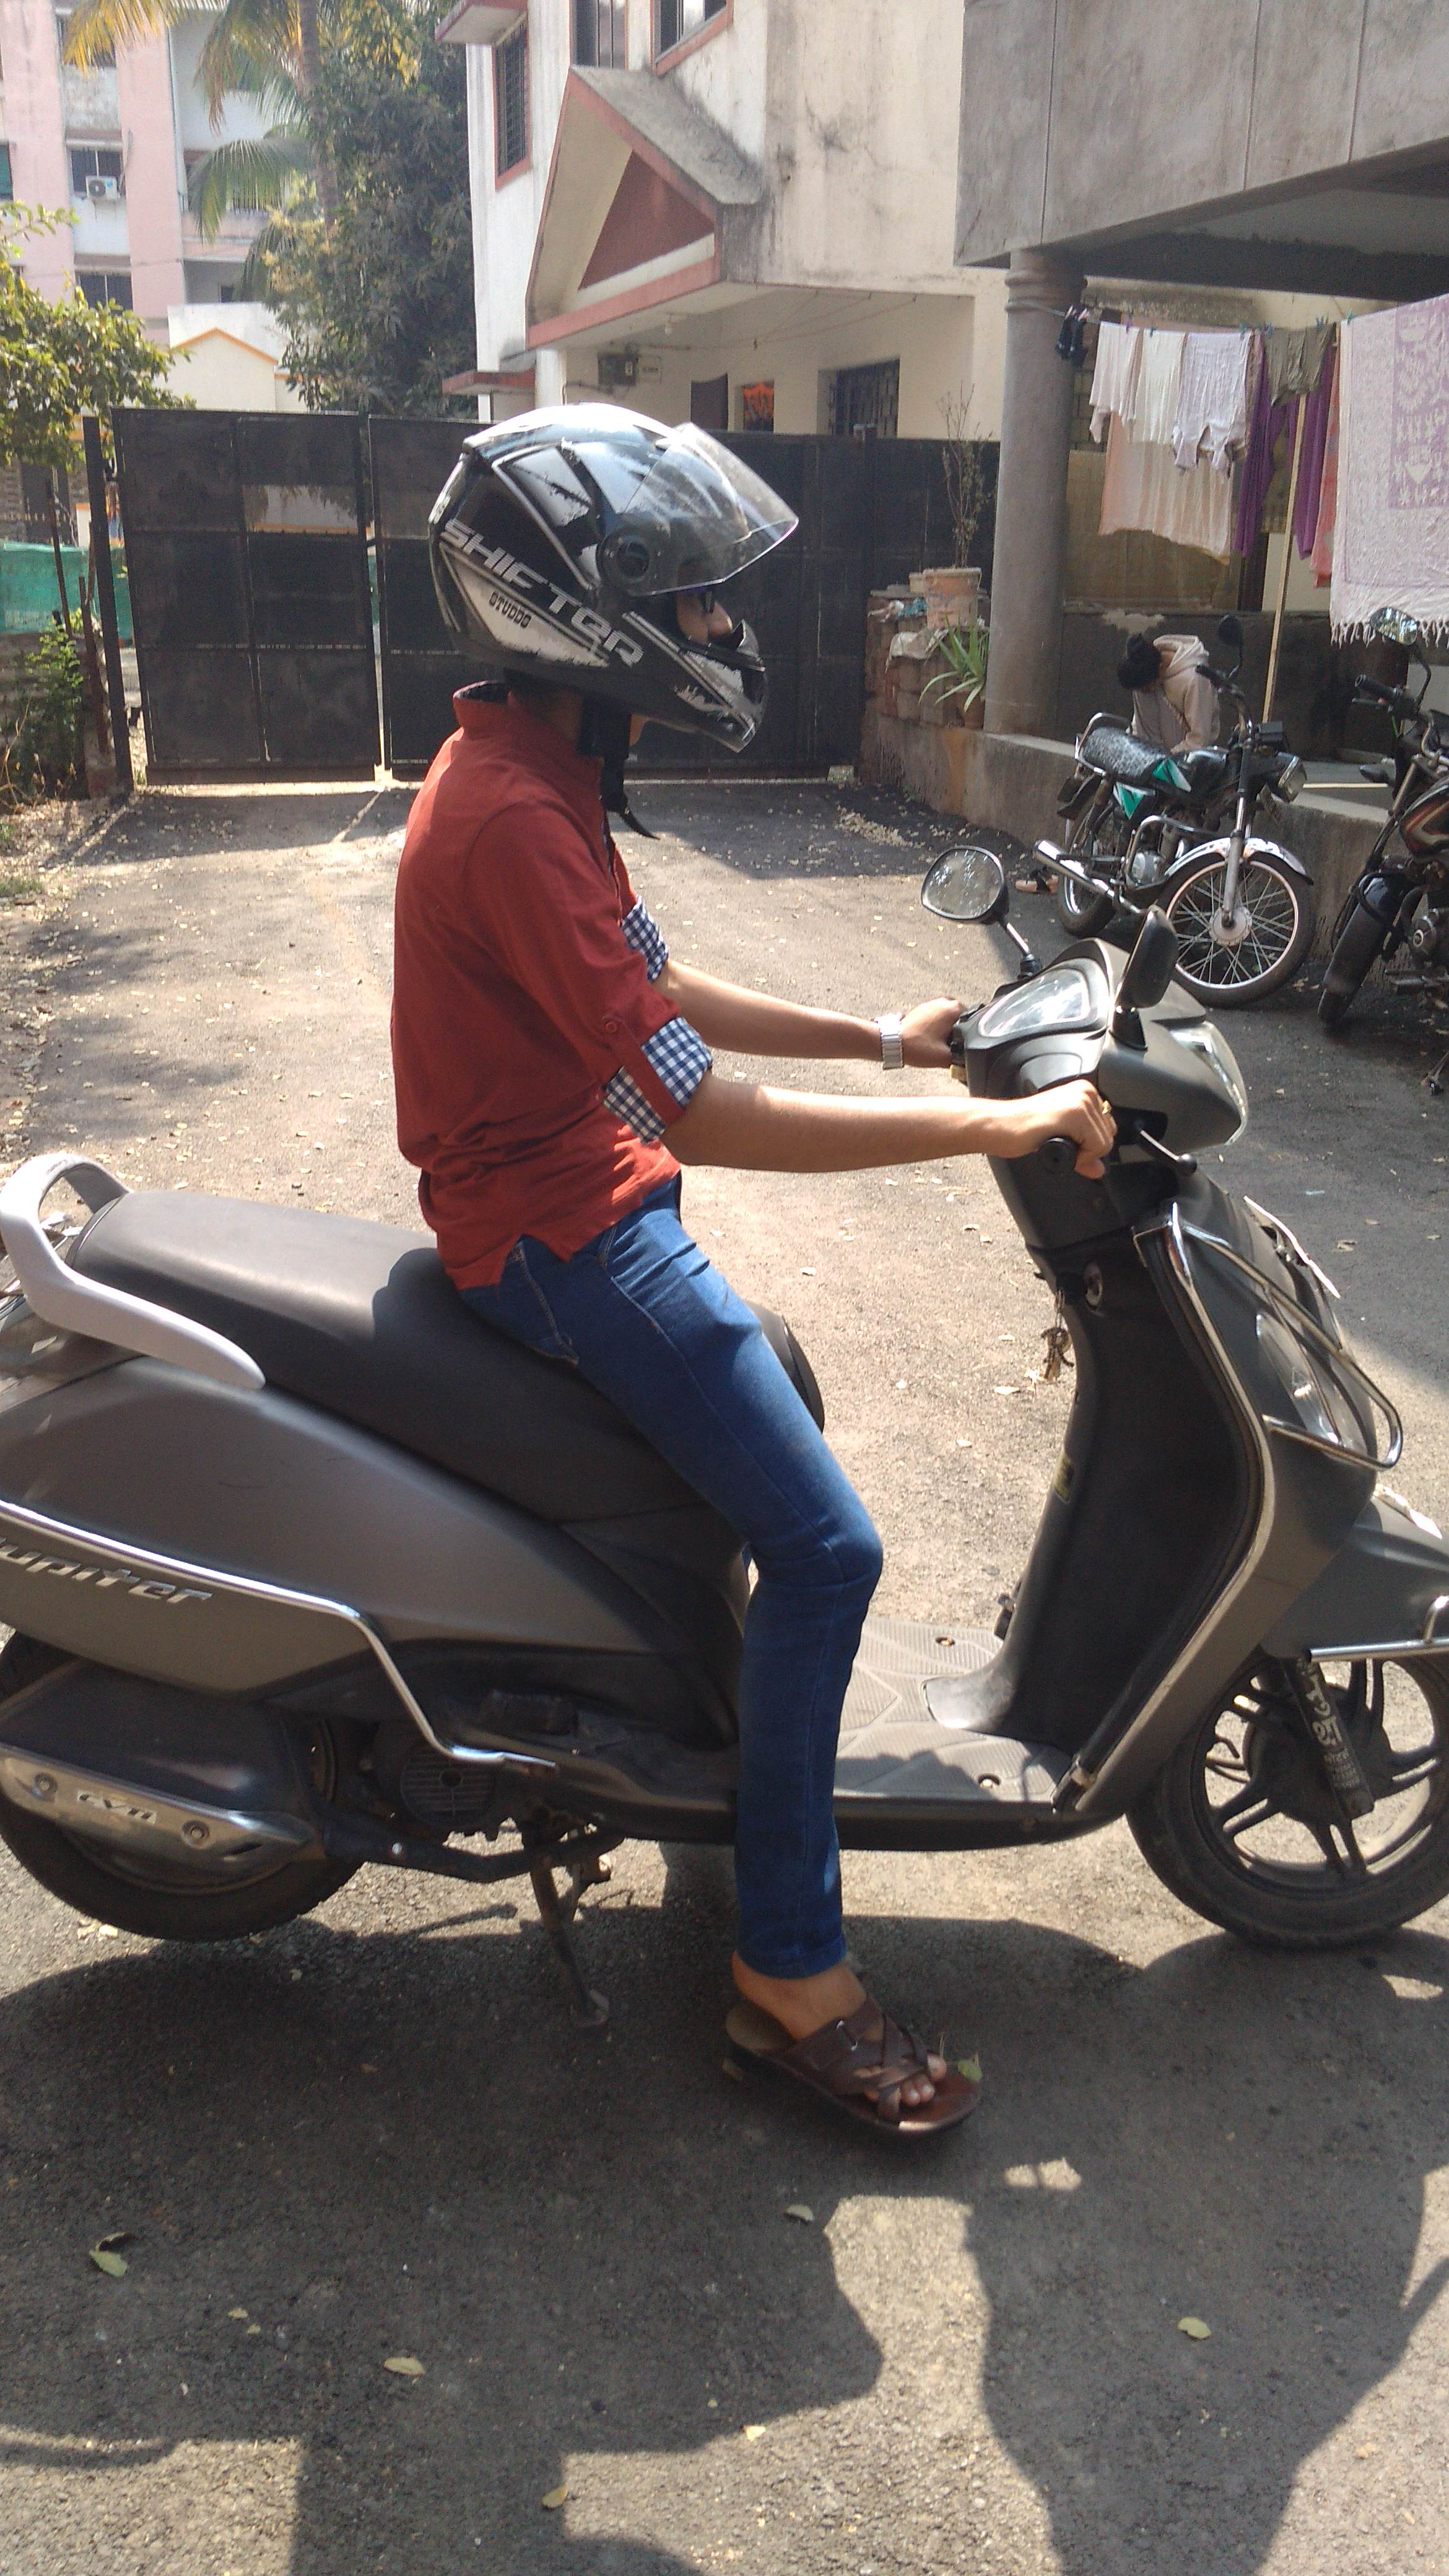helmet: (304, 356, 1122, 2189)
